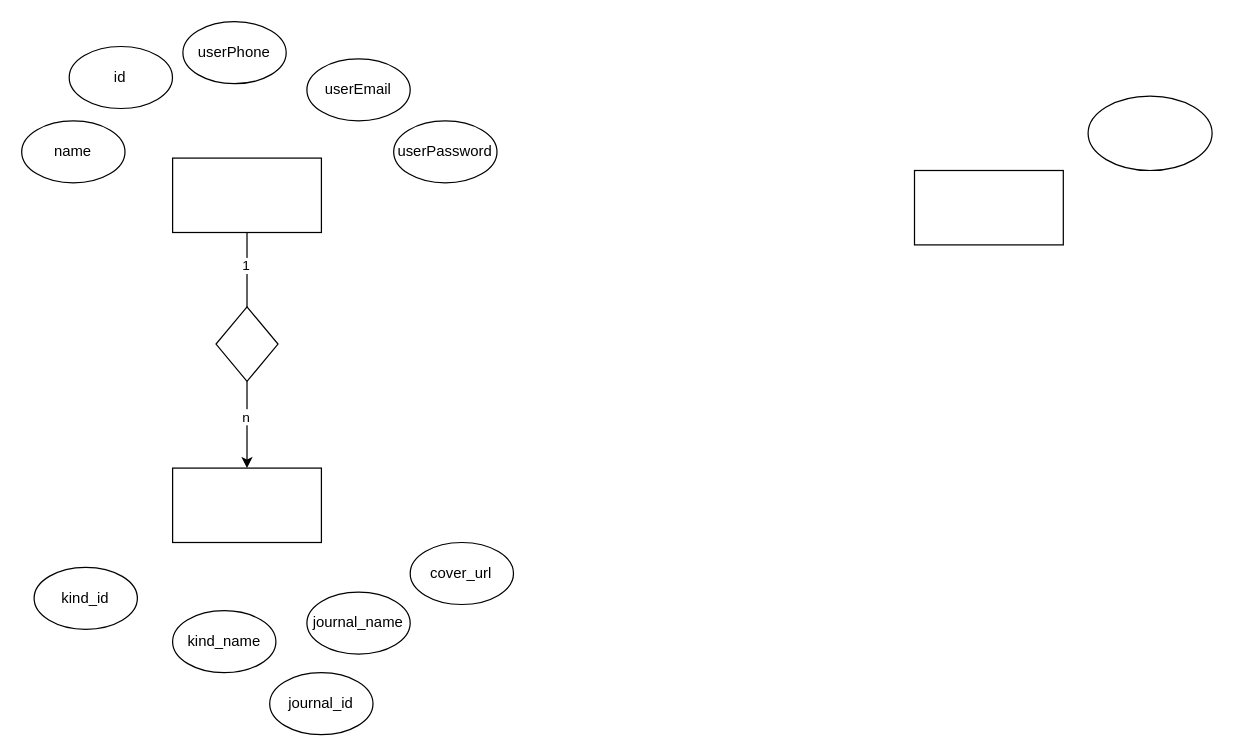
The diagram is 1234 pixels wide and 756 high, and some of its shapes have lost their labels. The shapes that lost their labels are listed below. From the top down, each one's centre as x and y in pixels, then its label:
At point (1149, 132): "姓名".
At point (246, 194): "用户".
At point (988, 207): "管理员".
At point (246, 504): "杂志库".
